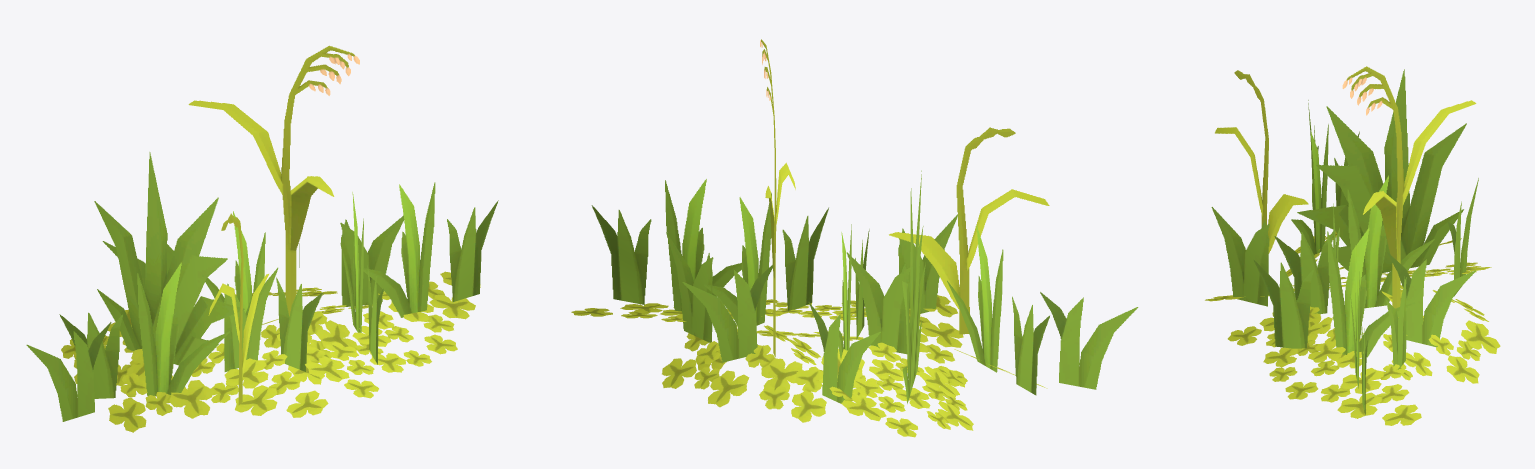
The model's file is SM_Env_Ground_Cover_01.glb.
3 views of the same model, side by side, from view 1: azimuth 30°, elevation 25°; view 2: azimuth 150°, elevation 25°; view 3: azimuth 270°, elevation 25° (orthographic). The views are drawn at different scales.
Visible parts, largest first — view 1: SM_Env_Ground_Cover_01; view 2: SM_Env_Ground_Cover_01; view 3: SM_Env_Ground_Cover_01.
Boxes of the visible parts, x1,y1,x2,y2 form: SM_Env_Ground_Cover_01: [26, 45, 498, 432]; SM_Env_Ground_Cover_01: [571, 39, 1138, 437]; SM_Env_Ground_Cover_01: [1205, 66, 1500, 425].
Bounding box in the file's own units: 2.89 × 1.59 × 1.58.
1 material, 1 textured.
